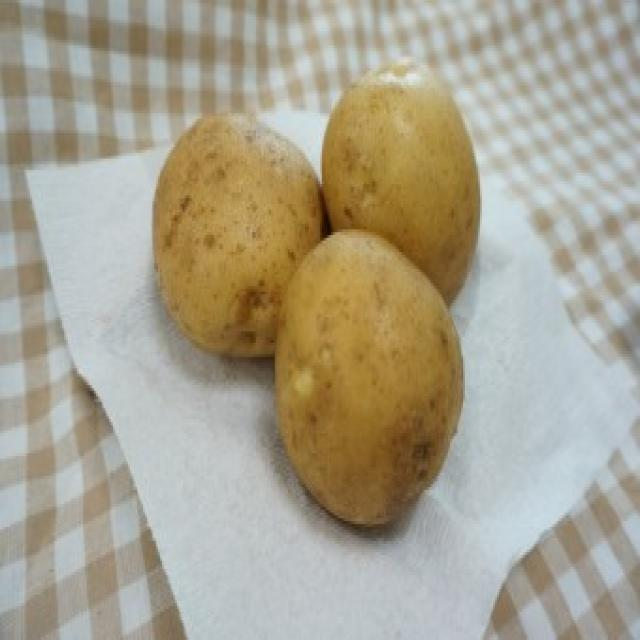potato: (276, 227, 467, 534), (150, 105, 323, 362), (320, 54, 481, 313)
